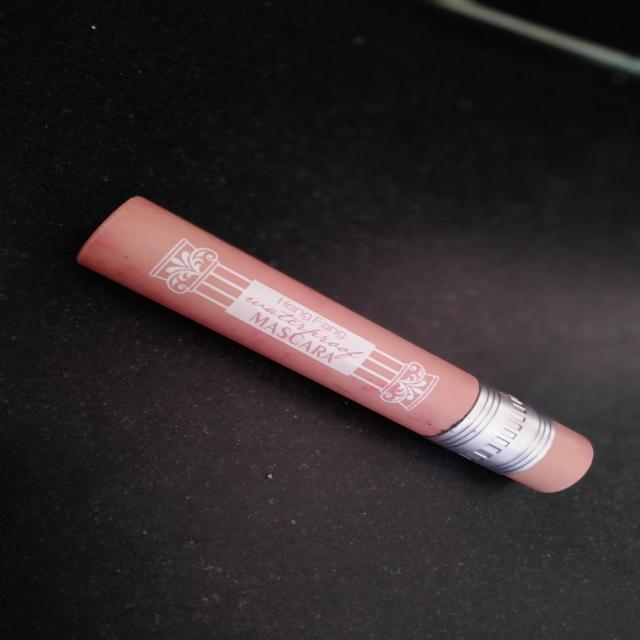lip stick: (14, 187, 632, 502)
